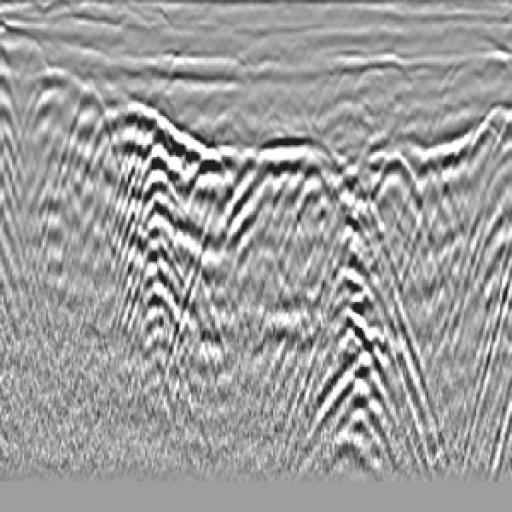metalic: (181, 101, 358, 332)
